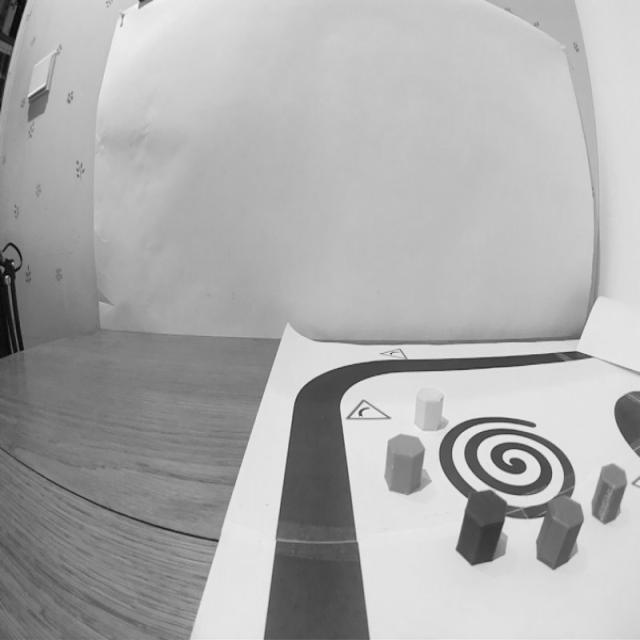hexagon: (452, 484, 512, 571), (532, 492, 586, 574), (379, 430, 427, 498), (590, 459, 632, 527), (412, 383, 446, 436)
lineStraight: (254, 487, 380, 640)
nest: (436, 410, 580, 520)
